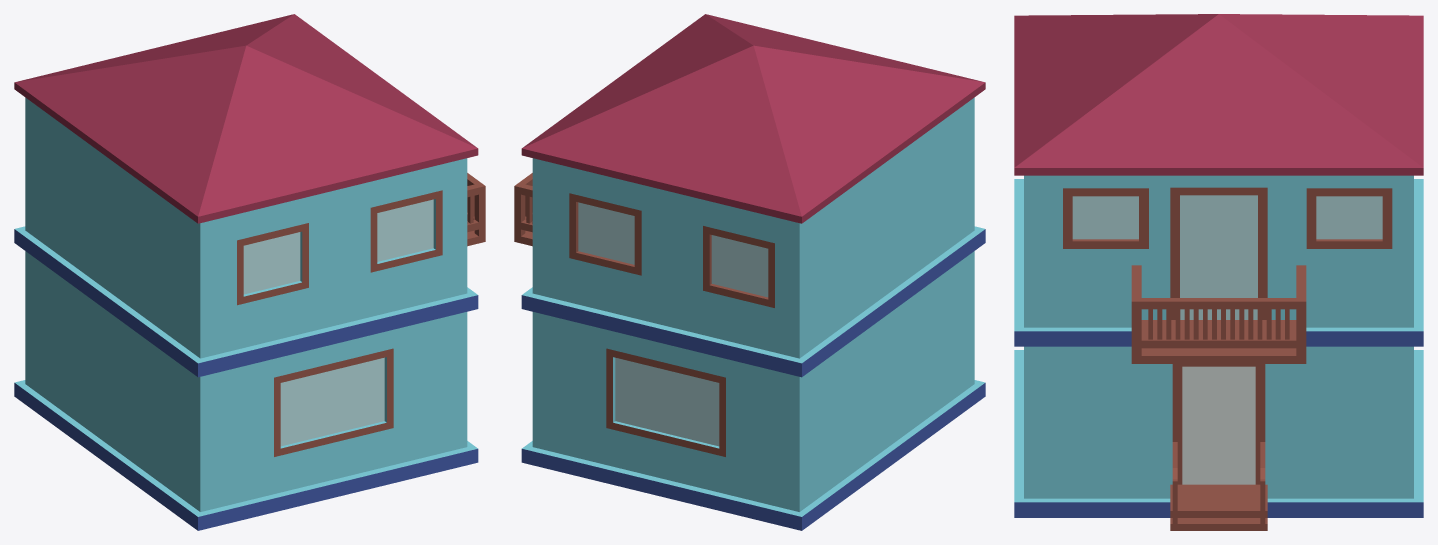
File: casinha.fbx
The picture shows the model from 3 angles, left to right: view 1: azimuth 30°, elevation 25°; view 2: azimuth 150°, elevation 25°; view 3: azimuth 270°, elevation 25°; orthographic projection. The views are drawn at different scales.
Parts seen in each view (by area): view 1: building_003; view 2: building_003; view 3: building_003.
Part boxes in pixels (x1,y1,x2,y2): building_003: (14, 14, 485, 530); building_003: (514, 14, 985, 530); building_003: (1014, 14, 1423, 530).
Size of the model in its own units: 510 by 550 by 477.
